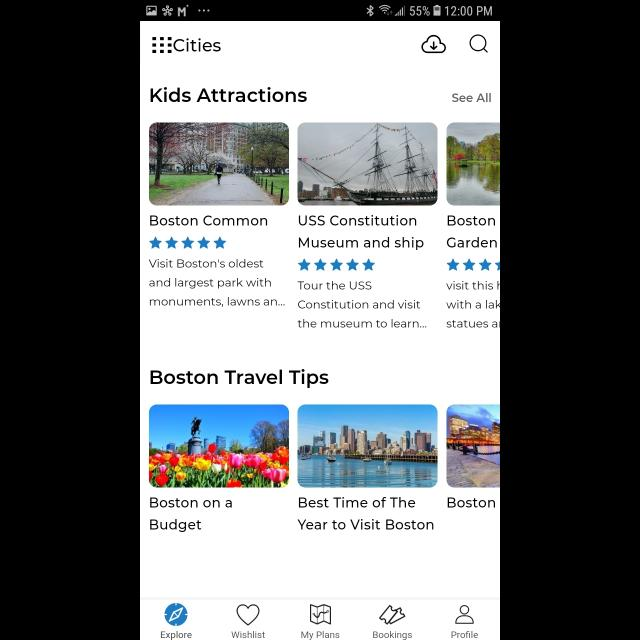icon: (150, 237, 227, 249), (298, 259, 374, 271), (446, 259, 499, 271), (165, 602, 188, 626), (379, 605, 405, 625), (237, 604, 260, 626), (422, 34, 446, 54), (310, 604, 332, 624), (468, 34, 488, 54), (456, 604, 474, 624), (152, 38, 172, 54)
image: (298, 404, 438, 488), (150, 404, 290, 488), (298, 122, 438, 205), (150, 122, 290, 205), (446, 404, 499, 488), (446, 124, 499, 206)
text: (149, 259, 285, 307), (298, 280, 427, 328), (298, 497, 434, 529), (300, 216, 424, 250), (151, 369, 329, 388), (150, 498, 232, 532), (446, 280, 500, 328), (151, 88, 307, 102), (447, 216, 498, 248), (150, 216, 268, 226), (174, 38, 222, 52), (448, 498, 494, 508), (372, 631, 411, 640), (302, 631, 340, 640), (452, 94, 492, 102), (160, 631, 191, 640), (232, 630, 266, 638), (452, 632, 478, 638)
uppertaskbar: (140, 1, 500, 22)
